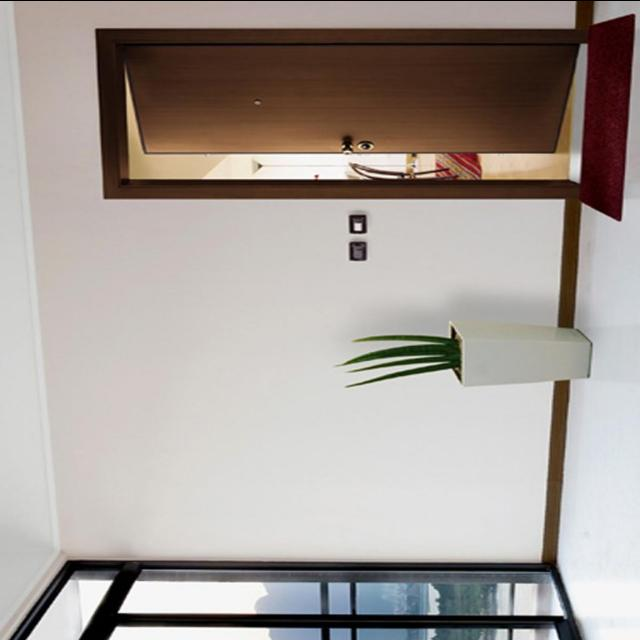open: (106, 36, 584, 192)
